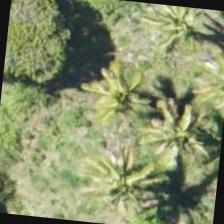Kelapa_Sawit: (67, 39, 166, 138), (58, 131, 158, 223), (136, 87, 223, 186)
